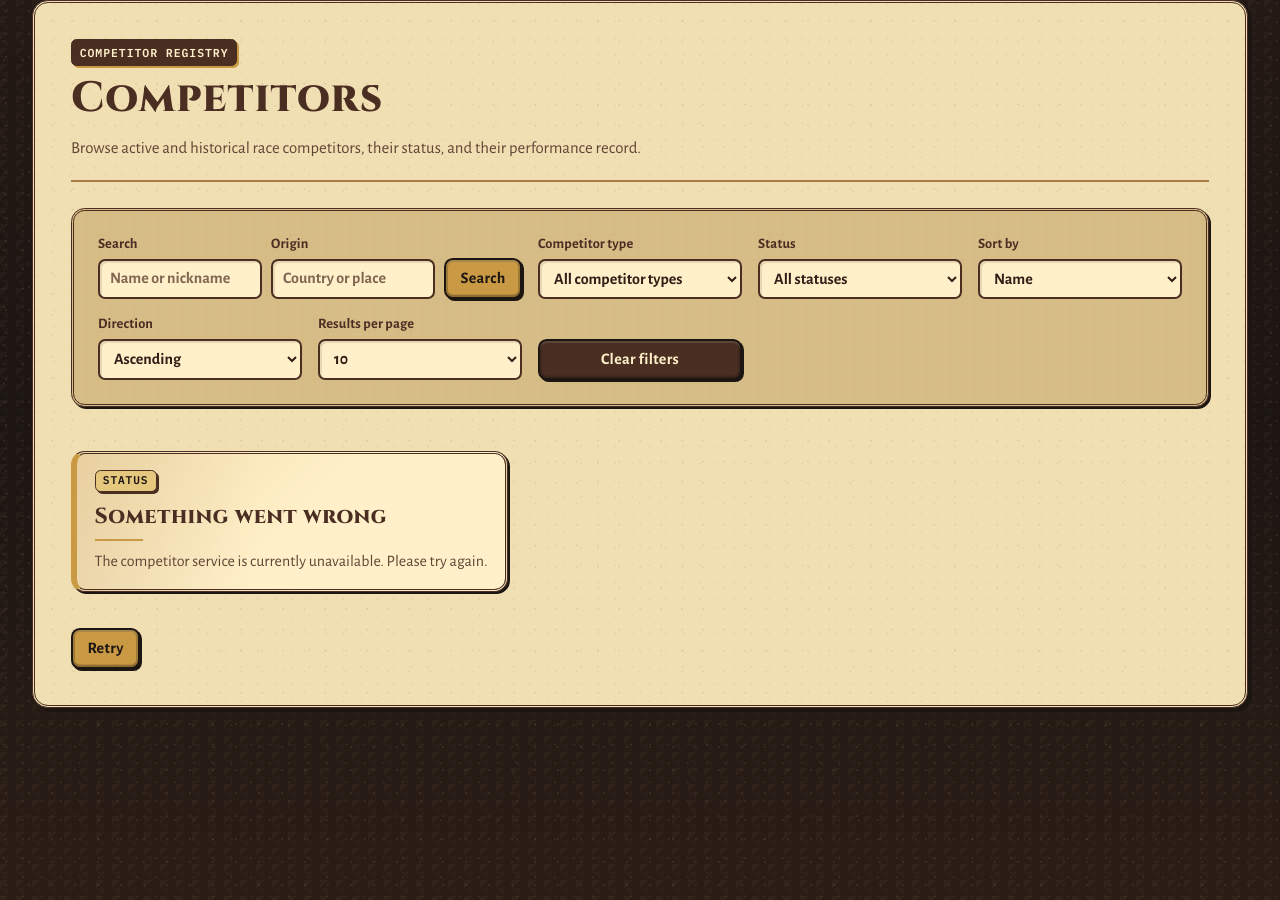
Test: CompetitorListPage › renders a safe error message and retries the request
The width and height of the screenshot is (1280, 900).
Expected: the text "The competitor service is currently unavailable. Please try again." is shown, [95,549,488,573]
Step 1. Click the button "Retry" → [106, 649], box [71,628,140,669]
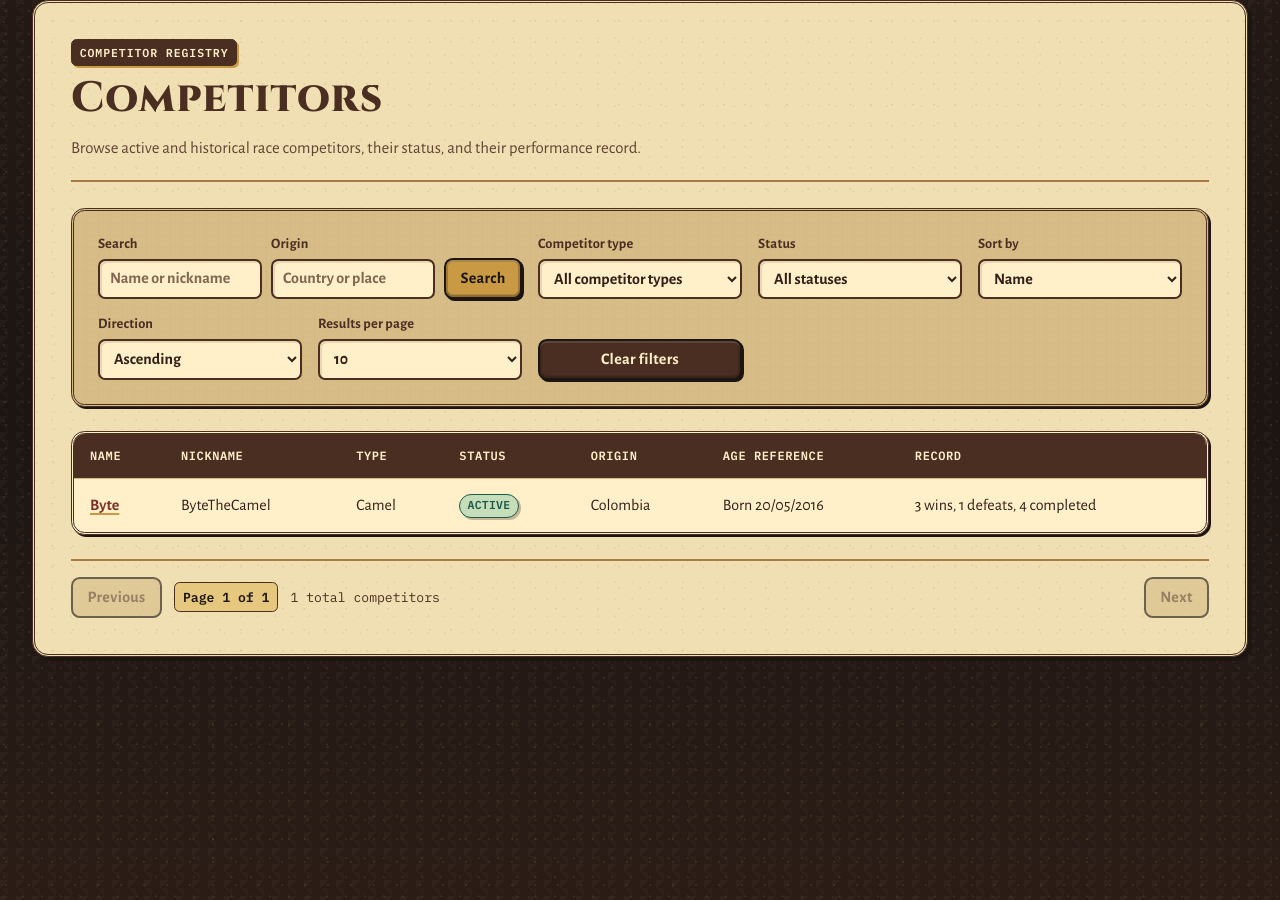
Now the link "Byte" is shown, box [90,497,119,513]
